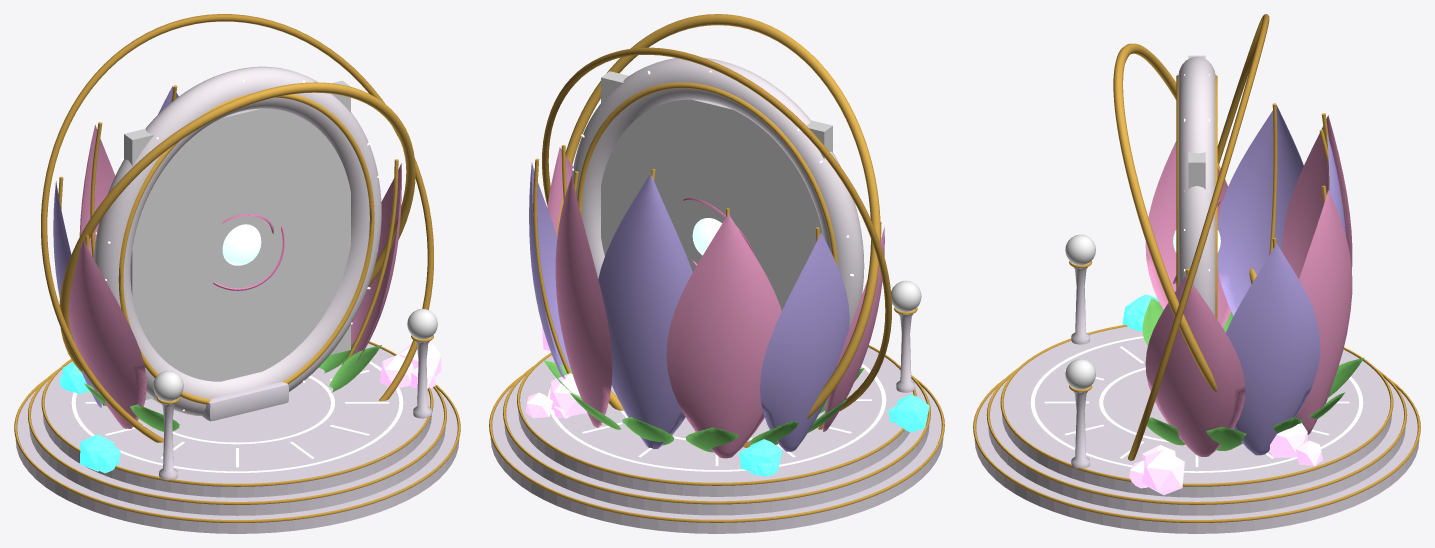
File: CB_Portal.fbx
The picture shows the model from 3 angles, left to right: view 1: azimuth 30°, elevation 25°; view 2: azimuth 150°, elevation 25°; view 3: azimuth 270°, elevation 25°; orthographic projection. The views are drawn at different scales.
Visible parts, largest first — view 1: TRG_Teleporte, CB_Portal_Estrutura_PedraPerolada, CB_Portal_Anel_Perola, CB_Portal_Petalas_Petala, CB_Portal_Frisos_Dourado, CB_Portal_AnelSuspenso2_DouradoEscovado, CB_Portal_AnelSuspenso1_Dourado, CB_Portal_Inscricoes_Inscricao, CB_Portal_Sepalas_Folha, CB_Portal_Anel_PedraPerolada, CB_Portal_Cristais_Cristal, CB_Portal_Luminarias_PedraPerolada (+4 smaller); view 2: CB_Portal_Estrutura_PedraPerolada, CB_Portal_Petalas_PetalaLilas, CB_Portal_Petalas_Petala, TRG_Teleporte, CB_Portal_Anel_Perola, CB_Portal_Frisos_Dourado, CB_Portal_AnelSuspenso1_Dourado, CB_Portal_AnelSuspenso2_DouradoEscovado, CB_Portal_Sepalas_Folha, CB_Portal_Cristais_Cristal, CB_Portal_Cristais_CristalRosa, CB_Portal_Inscricoes_Inscricao (+3 smaller); view 3: CB_Portal_Estrutura_PedraPerolada, CB_Portal_Petalas_Petala, CB_Portal_Petalas_PetalaLilas, CB_Portal_Frisos_Dourado, CB_Portal_Anel_Perola, CB_Portal_AnelSuspenso2_DouradoEscovado, CB_Portal_AnelSuspenso1_Dourado, CB_Portal_Cristais_CristalRosa, CB_Portal_Sepalas_Folha, CB_Portal_Inscricoes_Inscricao, CB_Portal_Luminarias_PedraPerolada, CB_Portal_Luminarias_Bolha (+2 smaller).
Part boxes in pixels (<box>): TRG_Teleporte: <box>124,80,350,399</box>; CB_Portal_Estrutura_PedraPerolada: <box>15,343,459,533</box>; CB_Portal_Anel_Perola: <box>93,66,381,415</box>; CB_Portal_Petalas_Petala: <box>68,125,401,428</box>; CB_Portal_Frisos_Dourado: <box>14,85,460,522</box>; CB_Portal_AnelSuspenso2_DouradoEscovado: <box>41,14,433,442</box>; CB_Portal_AnelSuspenso1_Dourado: <box>59,82,415,372</box>; CB_Portal_Inscricoes_Inscricao: <box>71,80,403,472</box>; CB_Portal_Sepalas_Folha: <box>67,342,381,431</box>; CB_Portal_Anel_PedraPerolada: <box>202,382,288,421</box>; CB_Portal_Cristais_Cristal: <box>59,362,120,473</box>; CB_Portal_Luminarias_PedraPerolada: <box>159,337,431,480</box>; CB_Portal_Estrutura_PedraPerolada: <box>490,347,943,533</box>; CB_Portal_Petalas_PetalaLilas: <box>529,162,849,451</box>; CB_Portal_Petalas_Petala: <box>547,147,884,458</box>; TRG_Teleporte: <box>601,71,832,310</box>; CB_Portal_Anel_Perola: <box>572,57,864,328</box>; CB_Portal_Frisos_Dourado: <box>489,82,944,522</box>; CB_Portal_AnelSuspenso1_Dourado: <box>556,14,880,447</box>; CB_Portal_AnelSuspenso2_DouradoEscovado: <box>542,47,891,411</box>; CB_Portal_Sepalas_Folha: <box>543,360,864,452</box>; CB_Portal_Cristais_Cristal: <box>739,394,929,476</box>; CB_Portal_Cristais_CristalRosa: <box>525,325,587,418</box>; CB_Portal_Inscricoes_Inscricao: <box>548,70,886,471</box>; CB_Portal_Estrutura_PedraPerolada: <box>974,326,1419,533</box>; CB_Portal_Petalas_Petala: <box>1145,115,1352,456</box>; CB_Portal_Petalas_PetalaLilas: <box>1217,105,1346,455</box>; CB_Portal_Frisos_Dourado: <box>973,75,1420,522</box>; CB_Portal_Anel_Perola: <box>1178,56,1215,315</box>; CB_Portal_AnelSuspenso2_DouradoEscovado: <box>1128,14,1269,460</box>; CB_Portal_AnelSuspenso1_Dourado: <box>1113,43,1256,392</box>; CB_Portal_Cristais_CristalRosa: <box>1129,423,1322,494</box>; CB_Portal_Sepalas_Folha: <box>1142,298,1364,450</box>; CB_Portal_Inscricoes_Inscricao: <box>1030,74,1363,472</box>; CB_Portal_Luminarias_PedraPerolada: <box>1071,263,1089,468</box>; CB_Portal_Luminarias_Bolha: <box>1065,234,1095,389</box>.
Size of the model in its own units: 26.18 by 26.32 by 26.18.
